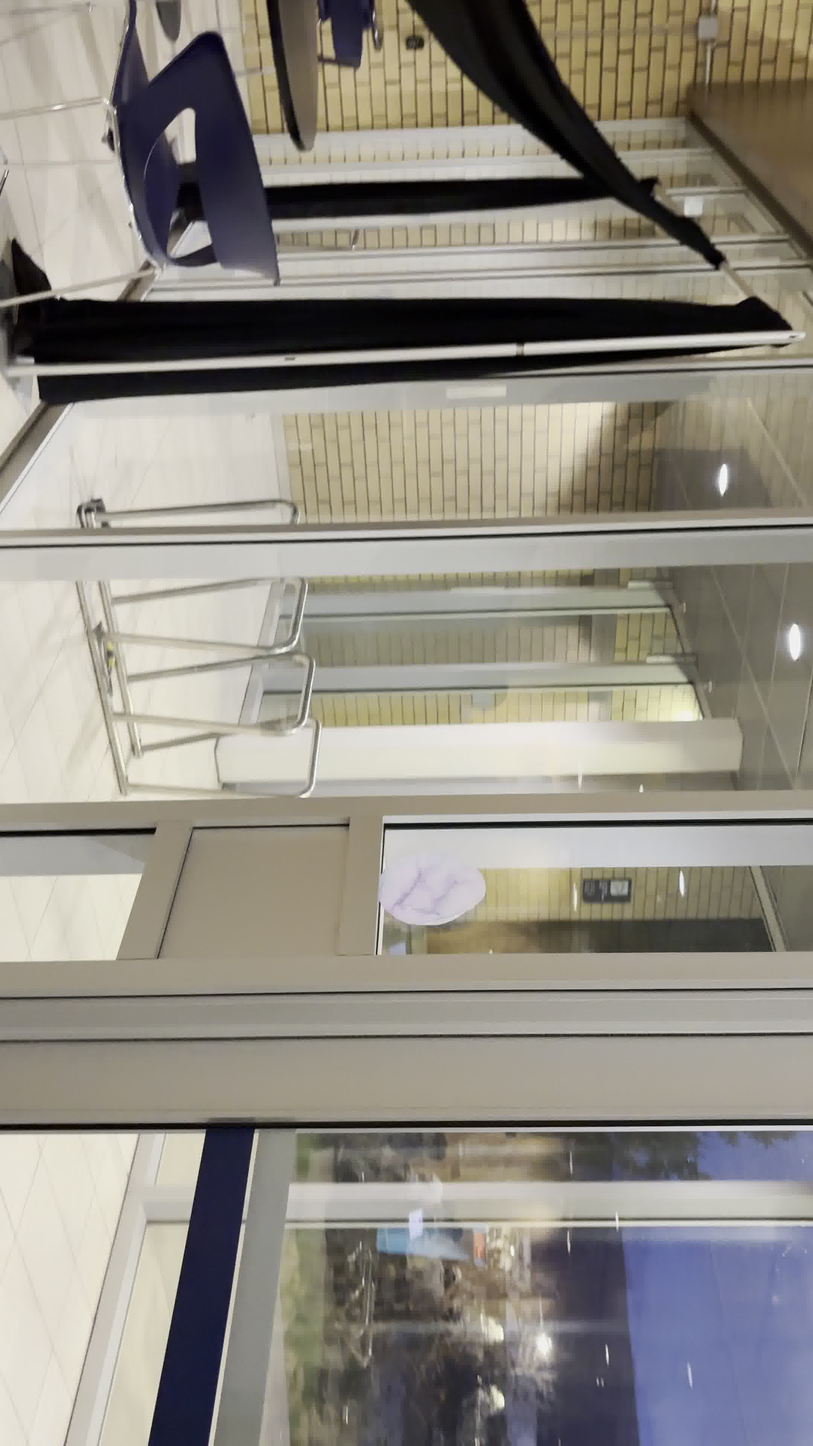Target: (376, 849, 488, 928)
